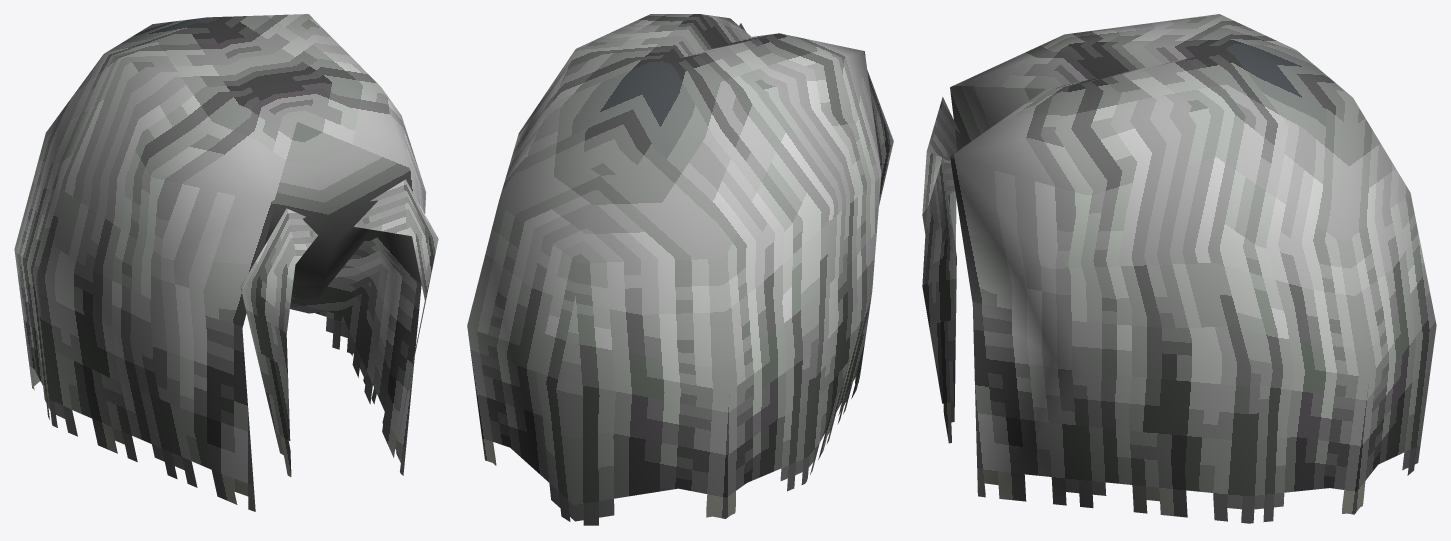
File: HUmar hair3.obj
3 views of the same model, side by side, from view 1: azimuth 30°, elevation 25°; view 2: azimuth 150°, elevation 25°; view 3: azimuth 270°, elevation 25° (orthographic). The views are drawn at different scales.
Visible parts, largest first — view 1: objg_plAhai02_1, objg_plAhai02_2; view 2: objg_plAhai02_1, objg_plAhai02_2; view 3: objg_plAhai02_1, objg_plAhai02_2.
Part boxes in pixels (box(x1,y1,x2,y2)): objg_plAhai02_1: box(14, 14, 426, 511); objg_plAhai02_2: box(240, 179, 438, 476); objg_plAhai02_1: box(467, 14, 881, 525); objg_plAhai02_2: box(739, 23, 893, 205); objg_plAhai02_1: box(950, 14, 1436, 523); objg_plAhai02_2: box(922, 97, 959, 443).
Size of the model in its own units: 0.8282 by 0.9703 by 1.06.
1 material, 1 textured.
